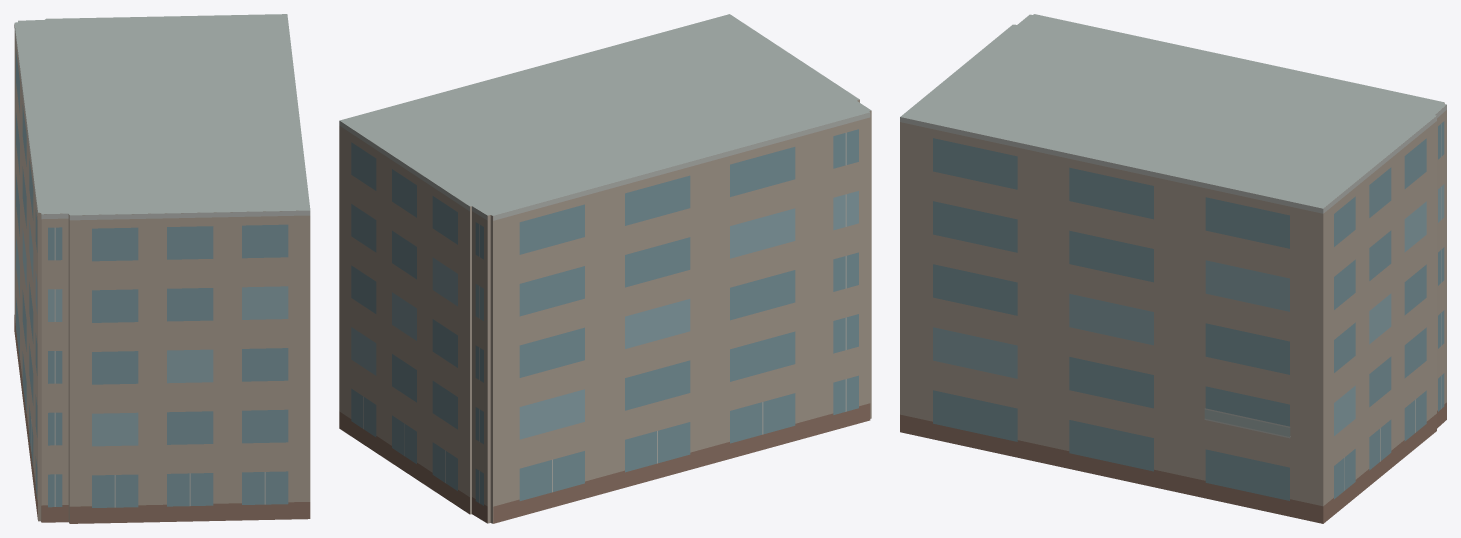
Rendered from survey-upis-32884934.glb.
The picture shows the model from 3 angles, left to right: view 1: azimuth 30°, elevation 25°; view 2: azimuth 150°, elevation 25°; view 3: azimuth 270°, elevation 25°; orthographic projection. The views are drawn at different scales.
Visible parts, largest first — view 1: survey-upis-32884934.tmp; view 2: survey-upis-32884934.tmp; view 3: survey-upis-32884934.tmp.
Part boxes in pixels (x1=…): survey-upis-32884934.tmp: x1=14, y1=14, x2=310, y2=523; survey-upis-32884934.tmp: x1=339, y1=14, x2=871, y2=523; survey-upis-32884934.tmp: x1=900, y1=14, x2=1446, y2=523.
Bounding box in the file's own units: 20.01 × 15.1 × 23.75.
